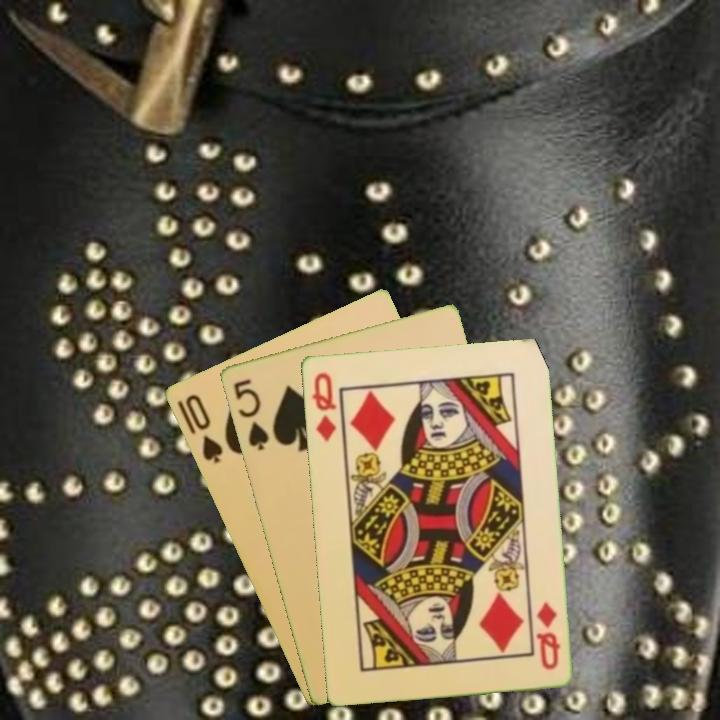10s: (181, 390, 226, 466)
5s: (229, 375, 271, 454)
Qd: (307, 368, 339, 444), (532, 598, 563, 673)
